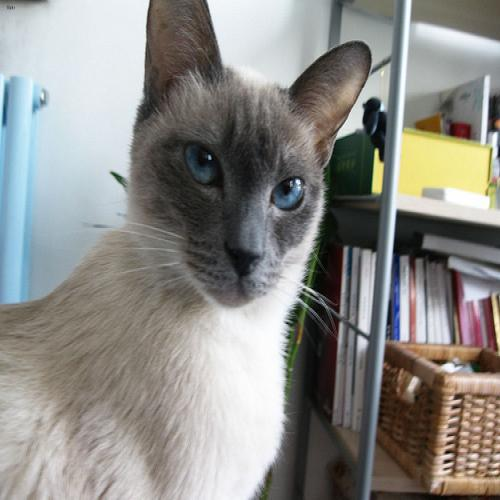siamese: (125, 1, 371, 324)
